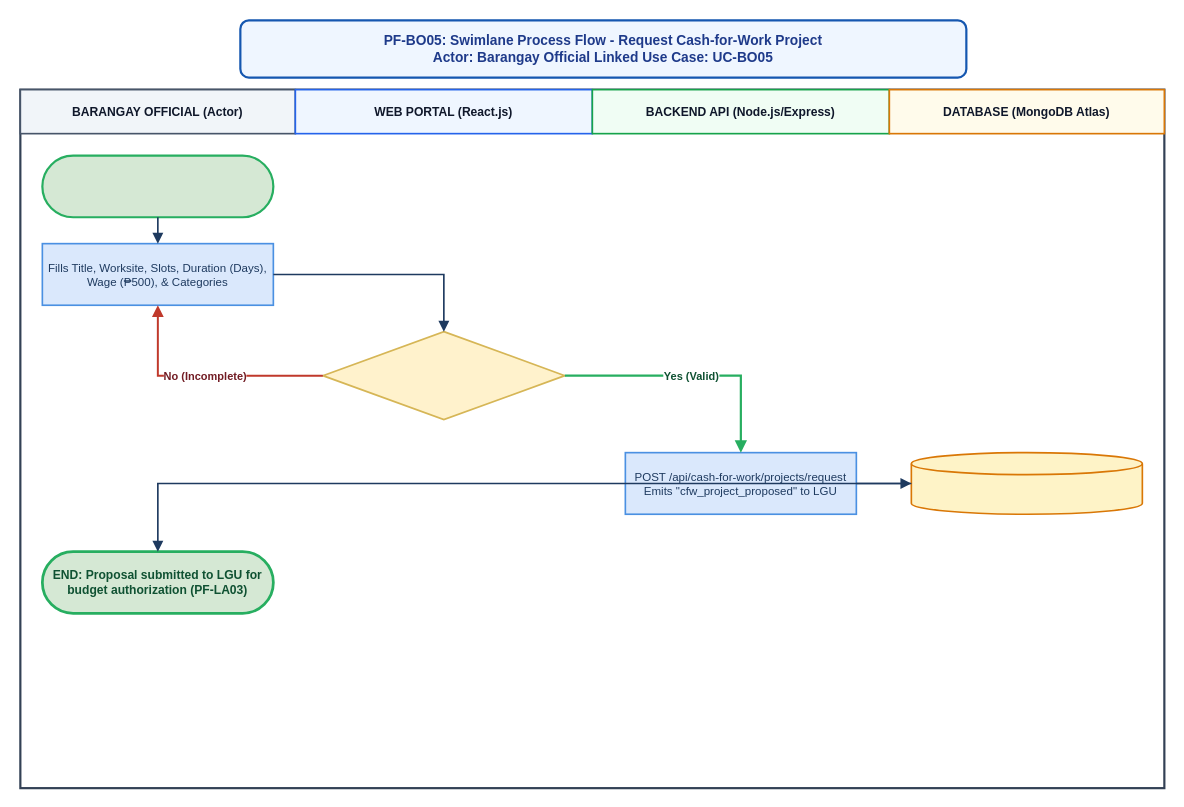
Image size: 1184x807. Some labels were removed from this diagram. The shapes that lost their labels are listed below. From the top down, each one's centre as x and y in pixels, then its label:
point (157, 186): START: Opens Livelihood Assistance
point (443, 375): All fields valid & budget calculated?
point (1026, 483): MongoDB: Creates CashForWorkProject (status: "pending_lgu_approval")
